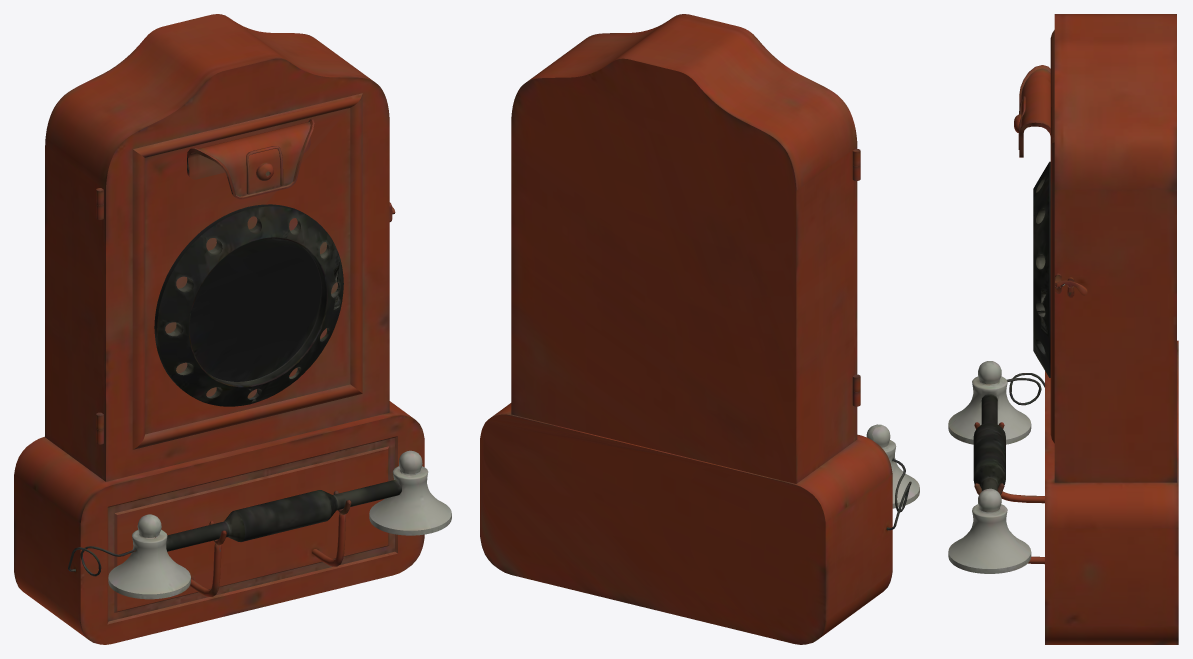
File: vintage-telephone-wall-clock.glb
The picture shows the model from 3 angles, left to right: view 1: azimuth 30°, elevation 25°; view 2: azimuth 150°, elevation 25°; view 3: azimuth 270°, elevation 25°; orthographic projection.
Parts seen in each view (by area): view 1: vintage_telephone_wall_clock; view 2: vintage_telephone_wall_clock; view 3: vintage_telephone_wall_clock.
Part boxes in pixels (x1,y1,x2,y2): vintage_telephone_wall_clock: [14, 14, 451, 644]; vintage_telephone_wall_clock: [480, 14, 919, 644]; vintage_telephone_wall_clock: [948, 14, 1178, 644].
Bounding box in the file's own units: 0.3428 × 0.5012 × 0.1926.
2 materials, 2 textured.
